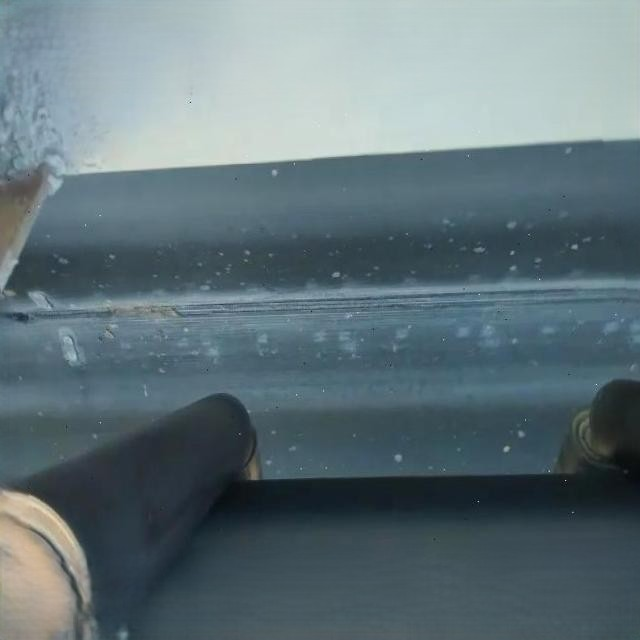Wear: (0, 278, 640, 328)
